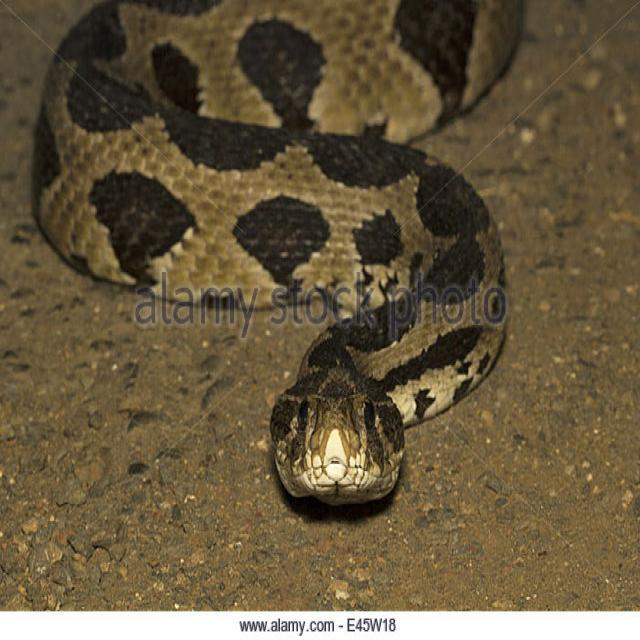Snake: (32, 0, 540, 520)
